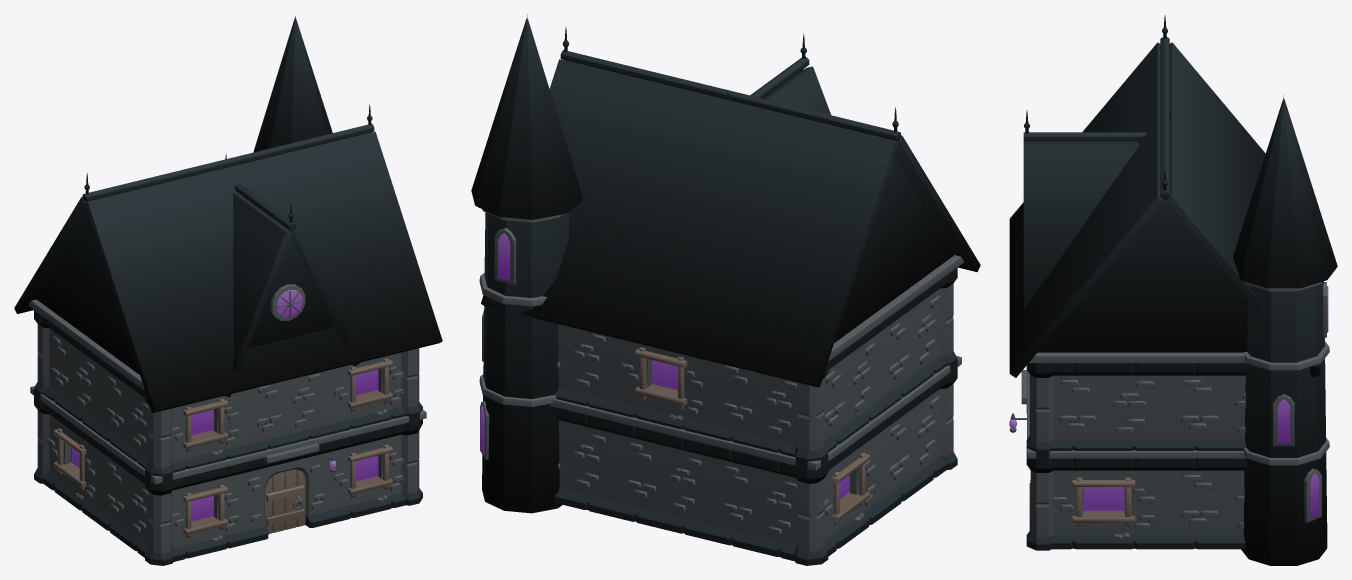
File: dusk_house.glb
3 views of the same model, side by side, from view 1: azimuth 30°, elevation 25°; view 2: azimuth 150°, elevation 25°; view 3: azimuth 270°, elevation 25° (orthographic). The views are drawn at different scales.
Visible parts, largest first — view 1: dusk_house; view 2: dusk_house; view 3: dusk_house.
Part boxes in pixels (x1,y1,x2,y2): dusk_house: (14, 16, 442, 565); dusk_house: (471, 14, 980, 565); dusk_house: (1009, 15, 1337, 565).
Size of the model in its own units: 11.12 by 14.34 by 9.4.
5 materials, 5 textured.
